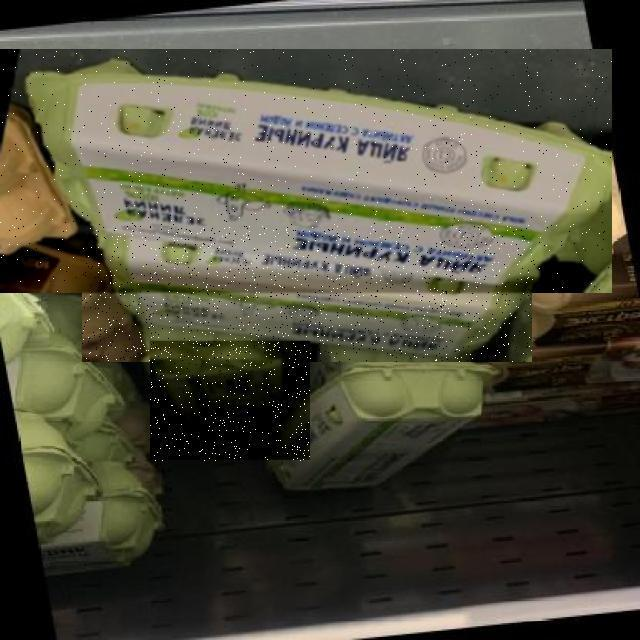egg: (36, 47, 614, 298), (0, 284, 170, 582), (279, 347, 501, 504)
